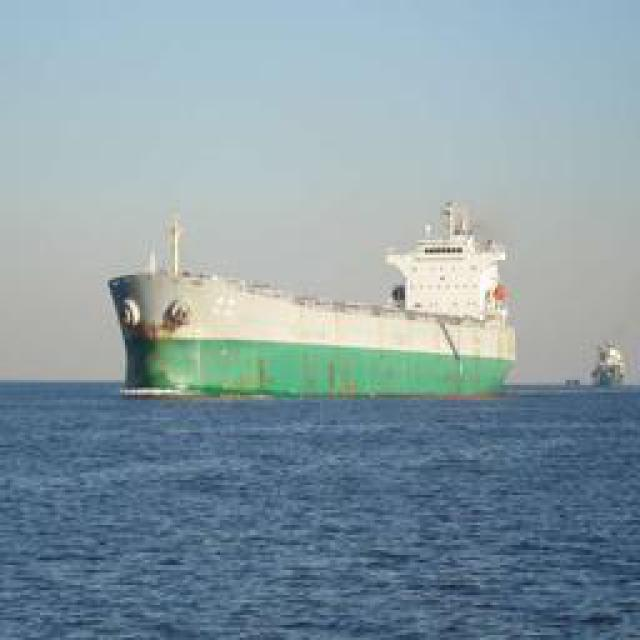Ship: (103, 195, 518, 408)
